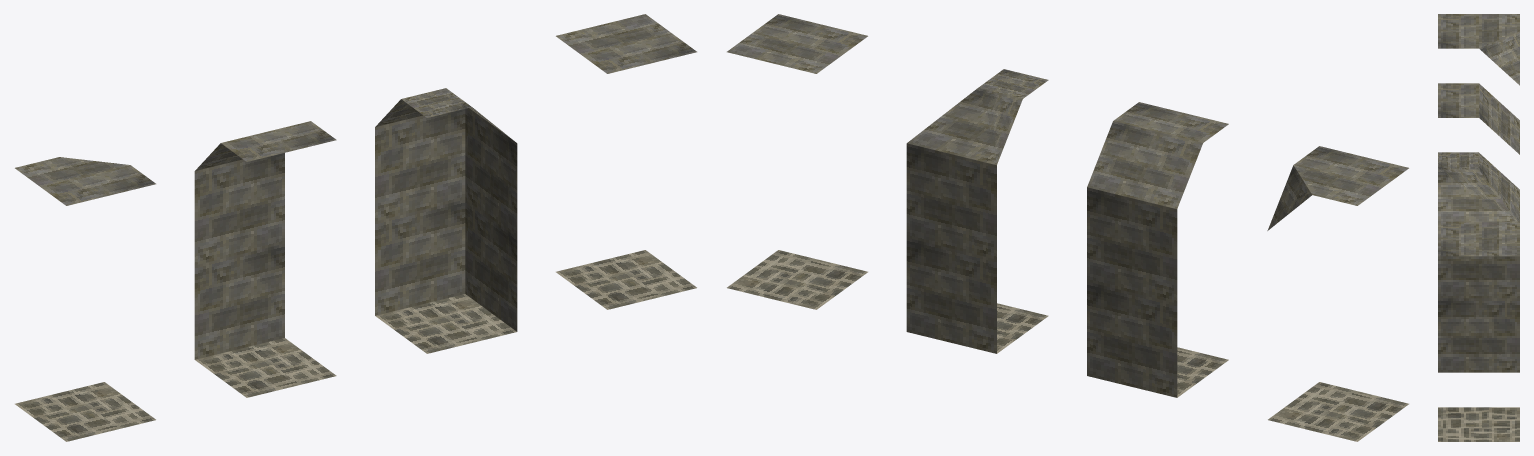
File: tileset.glb
3 renders of one model, left to right at view 1: azimuth 30°, elevation 25°; view 2: azimuth 150°, elevation 25°; view 3: azimuth 270°, elevation 25°, orthographic. The views are drawn at different scales.
Parts seen in each view (by area): view 1: cornor-in-col, wall-col, floor-col, cornor-out-col; view 2: wall-col, cornor-in-col, cornor-out-col, floor-col; view 3: cornor-in-col, floor-col, cornor-out-col, wall-col.
Boxes of the visible parts, box(x1,y1,x2,y2) form: cornor-in-col: box(375, 88, 517, 353); wall-col: box(194, 121, 336, 397); floor-col: box(556, 14, 696, 309); cornor-out-col: box(15, 157, 155, 441); wall-col: box(1087, 102, 1228, 397); cornor-in-col: box(906, 69, 1048, 353); cornor-out-col: box(1267, 146, 1408, 441); floor-col: box(727, 14, 867, 309); cornor-in-col: box(1438, 152, 1519, 372); floor-col: box(1438, 221, 1519, 441); cornor-out-col: box(1438, 14, 1519, 85); wall-col: box(1438, 83, 1519, 154).
Bounding box in the file's own units: 7 × 2.5 × 1.
1 material, 1 textured.
